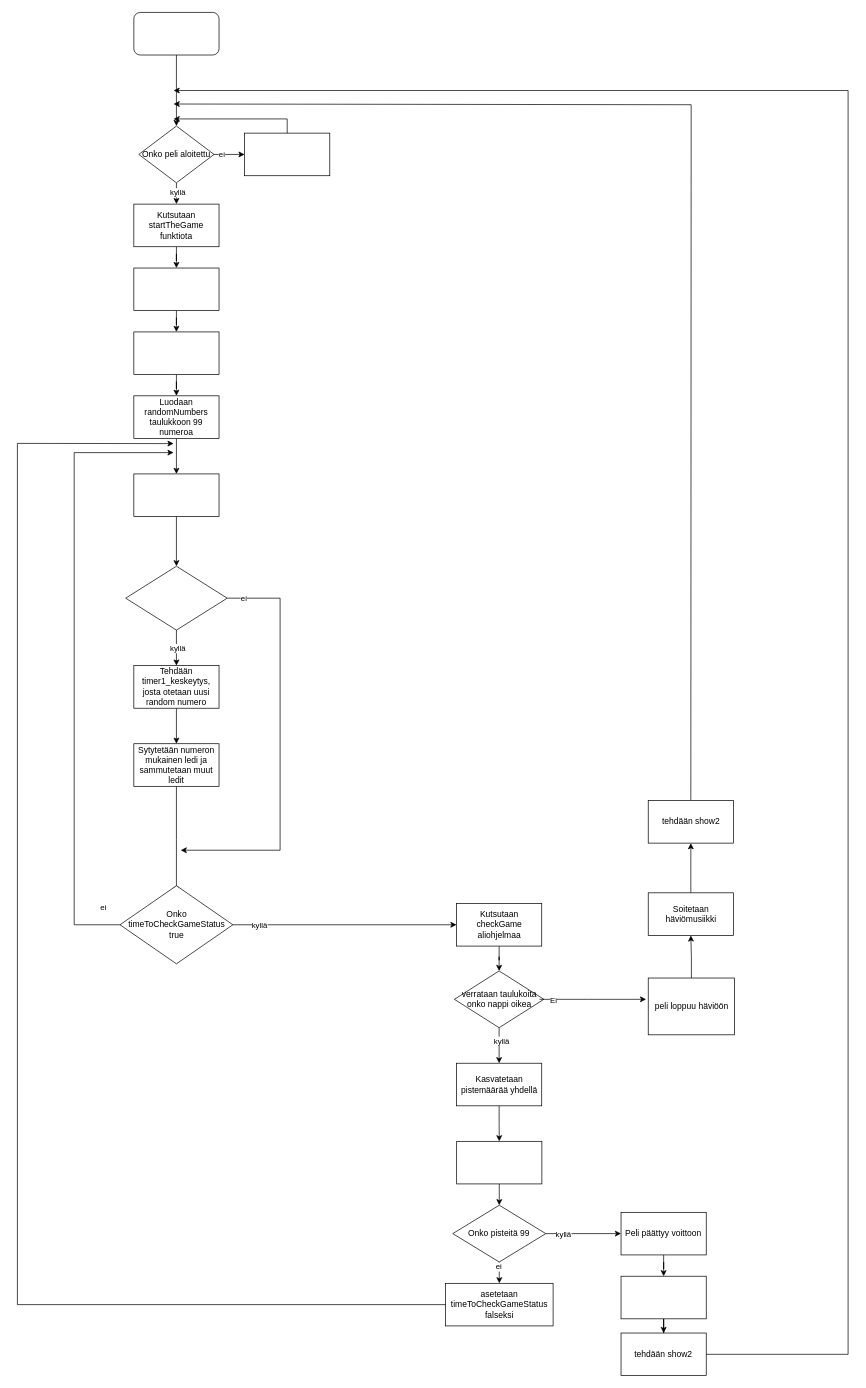
This 866x1388 diagram has some shape labels left out. The box of each missing label's shape, as (x1, y1, x2, y2) in pixels:
Aloitus: (133, 12, 219, 55)
alustetaan peli: (133, 331, 219, 375)
Alustetaan timer: (133, 267, 219, 311)
Näytetään pisteet showResults aliohjelmalla: (456, 1141, 542, 1184)
Onko aikaa kulunut compare matchin verran: (125, 566, 227, 630)
soitetaan taustamusiikkia: (133, 473, 219, 517)
soitetaan voittomusiikki: (620, 1276, 706, 1319)
tehdään show1: (244, 132, 330, 176)
